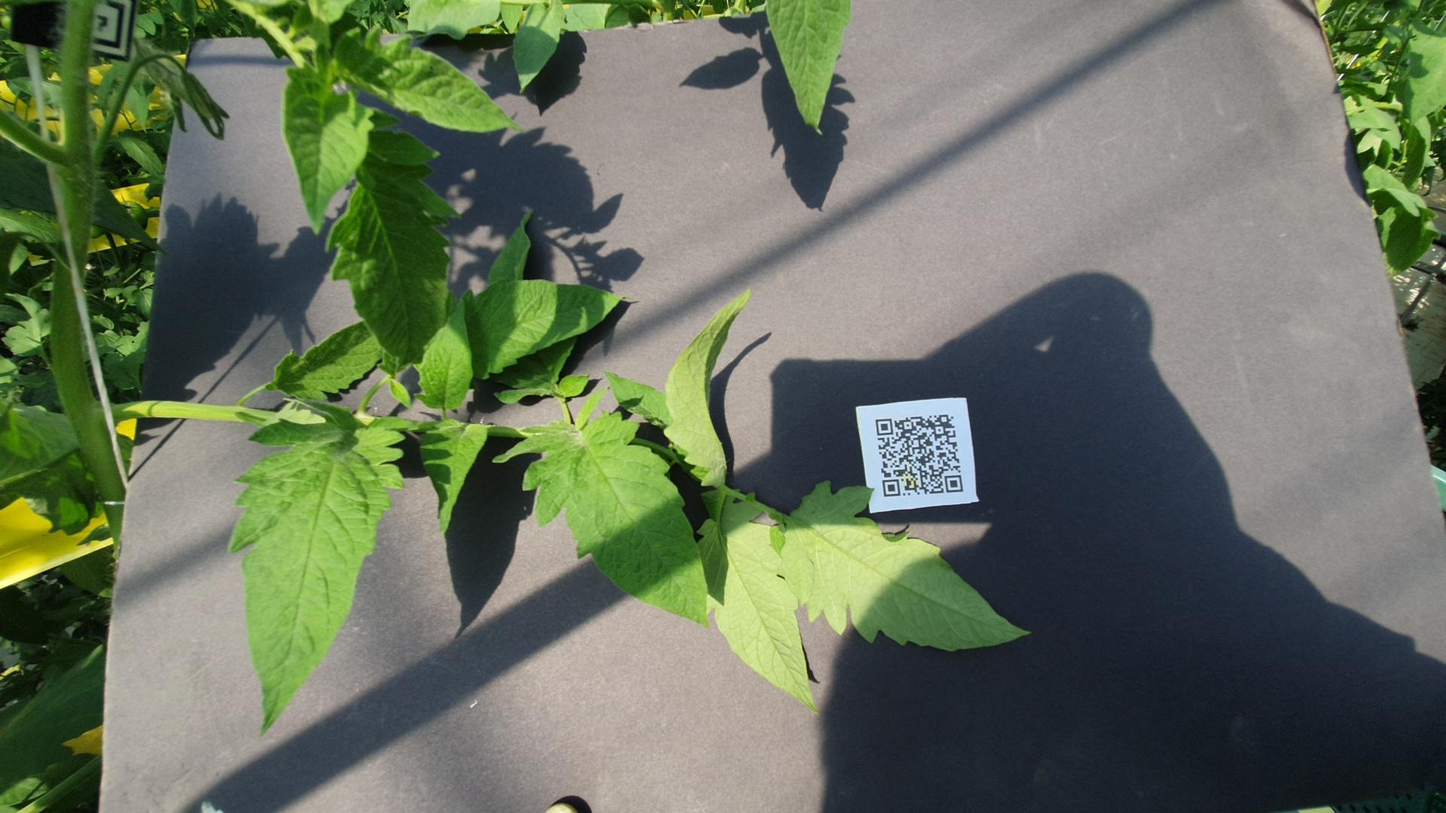Healthy: (134, 127, 708, 230), (328, 276, 719, 399), (283, 432, 592, 582), (795, 182, 1214, 261), (169, 389, 545, 460), (1209, 186, 1402, 294), (580, 373, 933, 423), (768, 261, 952, 350), (1029, 157, 1334, 210), (1207, 427, 1446, 480), (732, 149, 877, 214), (490, 235, 702, 275), (712, 232, 921, 266), (1277, 288, 1446, 319), (690, 337, 788, 377)
